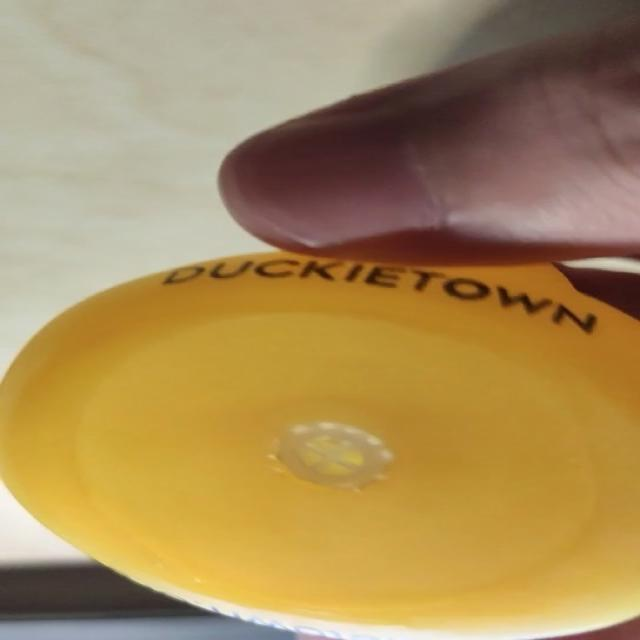rubber-duck: (0, 251, 638, 638)
